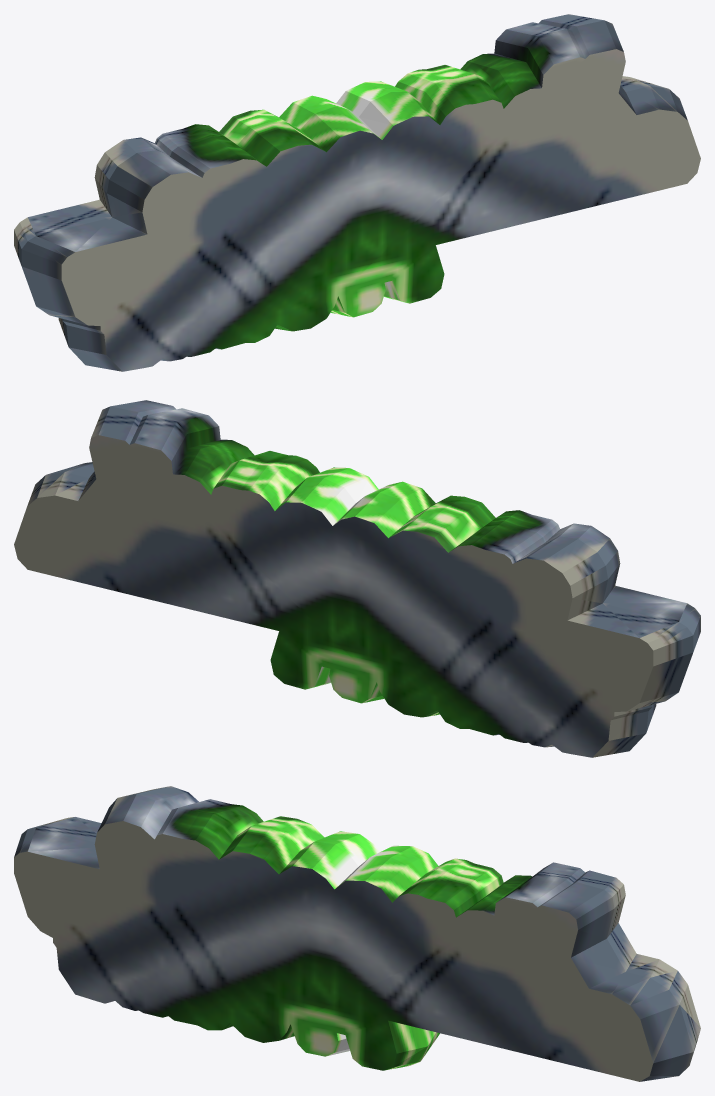
File: icon.ico.obj
3 views of the same model, one above another, from view 1: azimuth 30°, elevation 25°; view 2: azimuth 150°, elevation 25°; view 3: azimuth 330°, elevation 25° (orthographic).
Size of the model in its own units: 4.88 by 1.58 by 0.6001.
